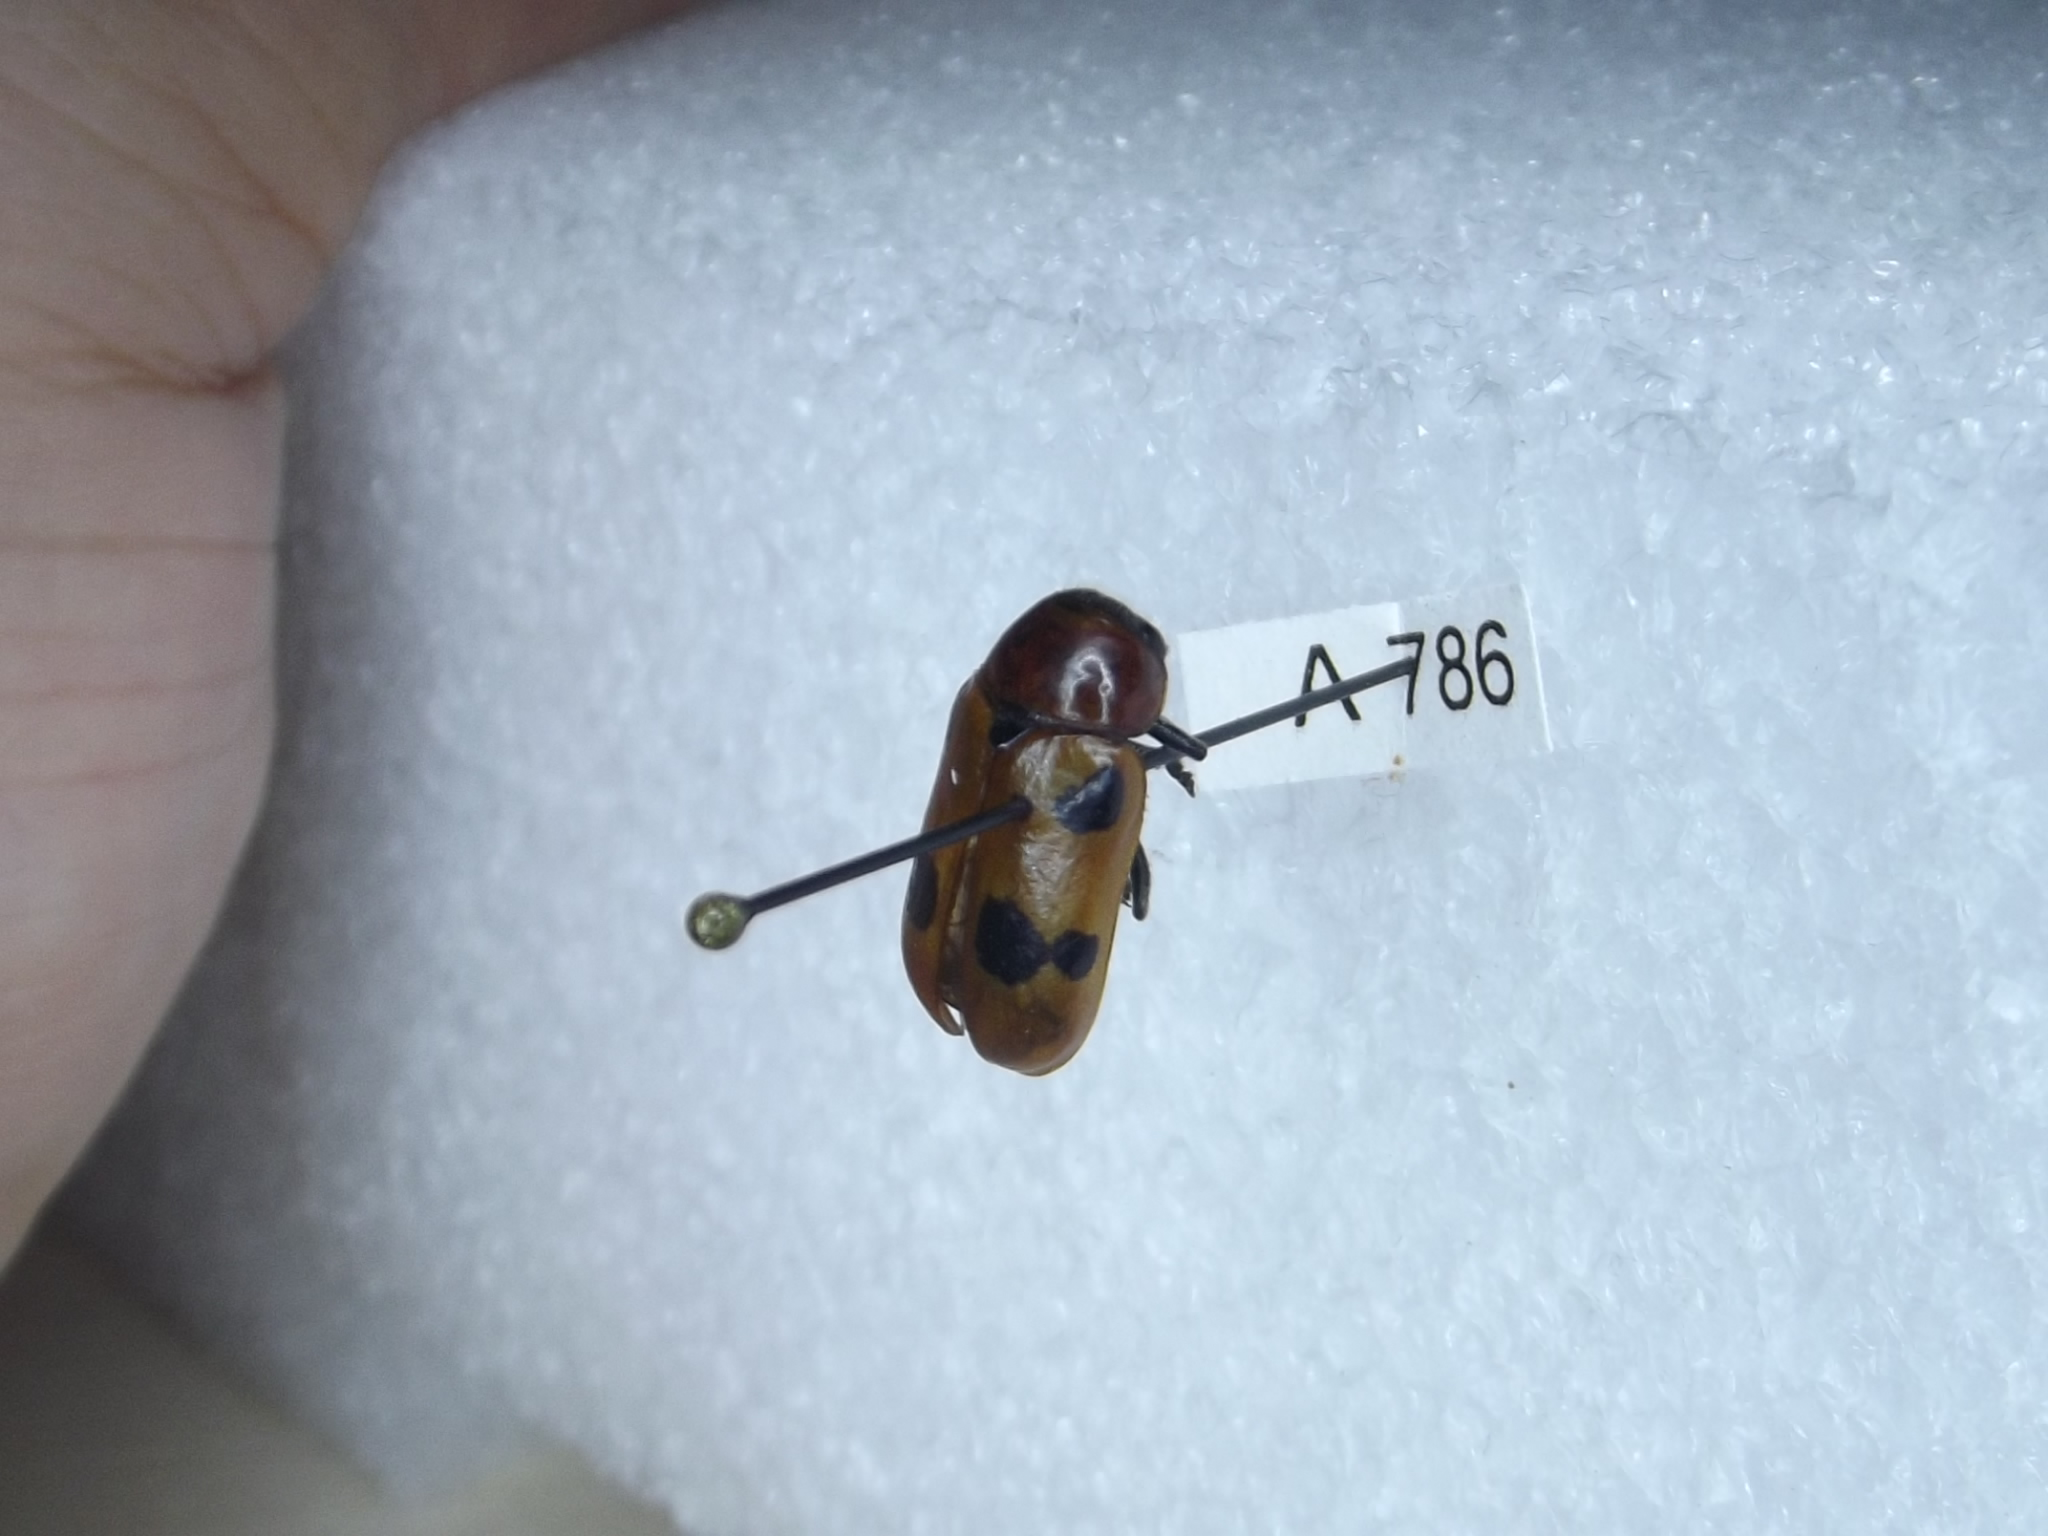Clytra_novempunctata: (874, 582, 1221, 1100)
